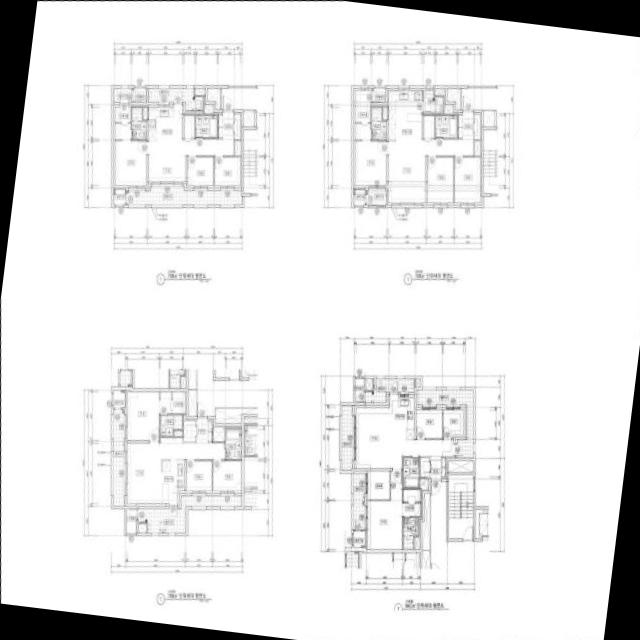background: (0, 0, 640, 640)
space_balconi: (138, 495, 241, 532), (417, 389, 472, 457), (125, 186, 241, 204), (148, 87, 202, 110), (365, 378, 414, 402), (113, 408, 123, 505), (341, 405, 351, 470), (353, 472, 363, 529), (422, 90, 443, 113), (365, 188, 386, 204), (113, 87, 131, 101)
space_bedroom: (367, 470, 401, 548), (127, 391, 158, 439), (354, 140, 386, 185), (114, 140, 146, 184), (427, 156, 453, 202), (454, 156, 479, 202), (212, 460, 241, 490), (185, 460, 211, 490), (187, 156, 213, 185), (415, 409, 441, 437), (214, 156, 239, 185), (442, 409, 462, 437)
space_dressroom: (354, 90, 370, 139), (114, 104, 130, 139), (159, 391, 184, 413), (402, 489, 419, 515)
space_front: (457, 110, 473, 138), (217, 111, 233, 138), (196, 417, 211, 442), (429, 455, 445, 476)
space_kitchen: (388, 90, 421, 139), (148, 104, 181, 138), (389, 394, 413, 439), (160, 458, 183, 503)
space_living_room: (127, 437, 224, 503), (355, 407, 453, 467), (388, 138, 473, 202), (148, 138, 233, 181)
space_multipurpose_space: (367, 470, 389, 498)
space_other: (421, 492, 429, 549), (206, 87, 220, 109), (446, 88, 460, 109), (448, 460, 472, 471), (183, 114, 194, 137), (183, 420, 195, 441), (423, 115, 434, 137), (126, 508, 136, 532), (354, 378, 363, 402), (132, 87, 146, 101), (371, 87, 385, 101), (419, 457, 428, 476), (243, 109, 253, 126), (483, 109, 493, 126), (212, 427, 224, 441), (234, 113, 240, 138), (474, 114, 479, 139), (234, 140, 240, 155), (419, 478, 427, 488), (365, 378, 372, 389), (474, 140, 479, 155), (443, 105, 452, 113), (138, 523, 146, 532), (194, 87, 204, 94), (204, 105, 212, 113), (142, 107, 147, 119), (382, 107, 387, 119), (434, 89, 443, 95), (414, 536, 418, 548), (173, 430, 182, 435), (415, 378, 419, 386)
space_outdoor_room: (113, 389, 124, 407), (353, 530, 364, 547), (353, 188, 364, 204), (113, 188, 124, 204)
space_staircase: (448, 474, 472, 538)
space_toilet: (195, 114, 216, 137), (159, 414, 182, 435), (371, 107, 386, 139), (225, 428, 241, 458), (402, 457, 418, 487), (131, 107, 146, 138), (402, 517, 417, 548), (435, 115, 456, 137)
